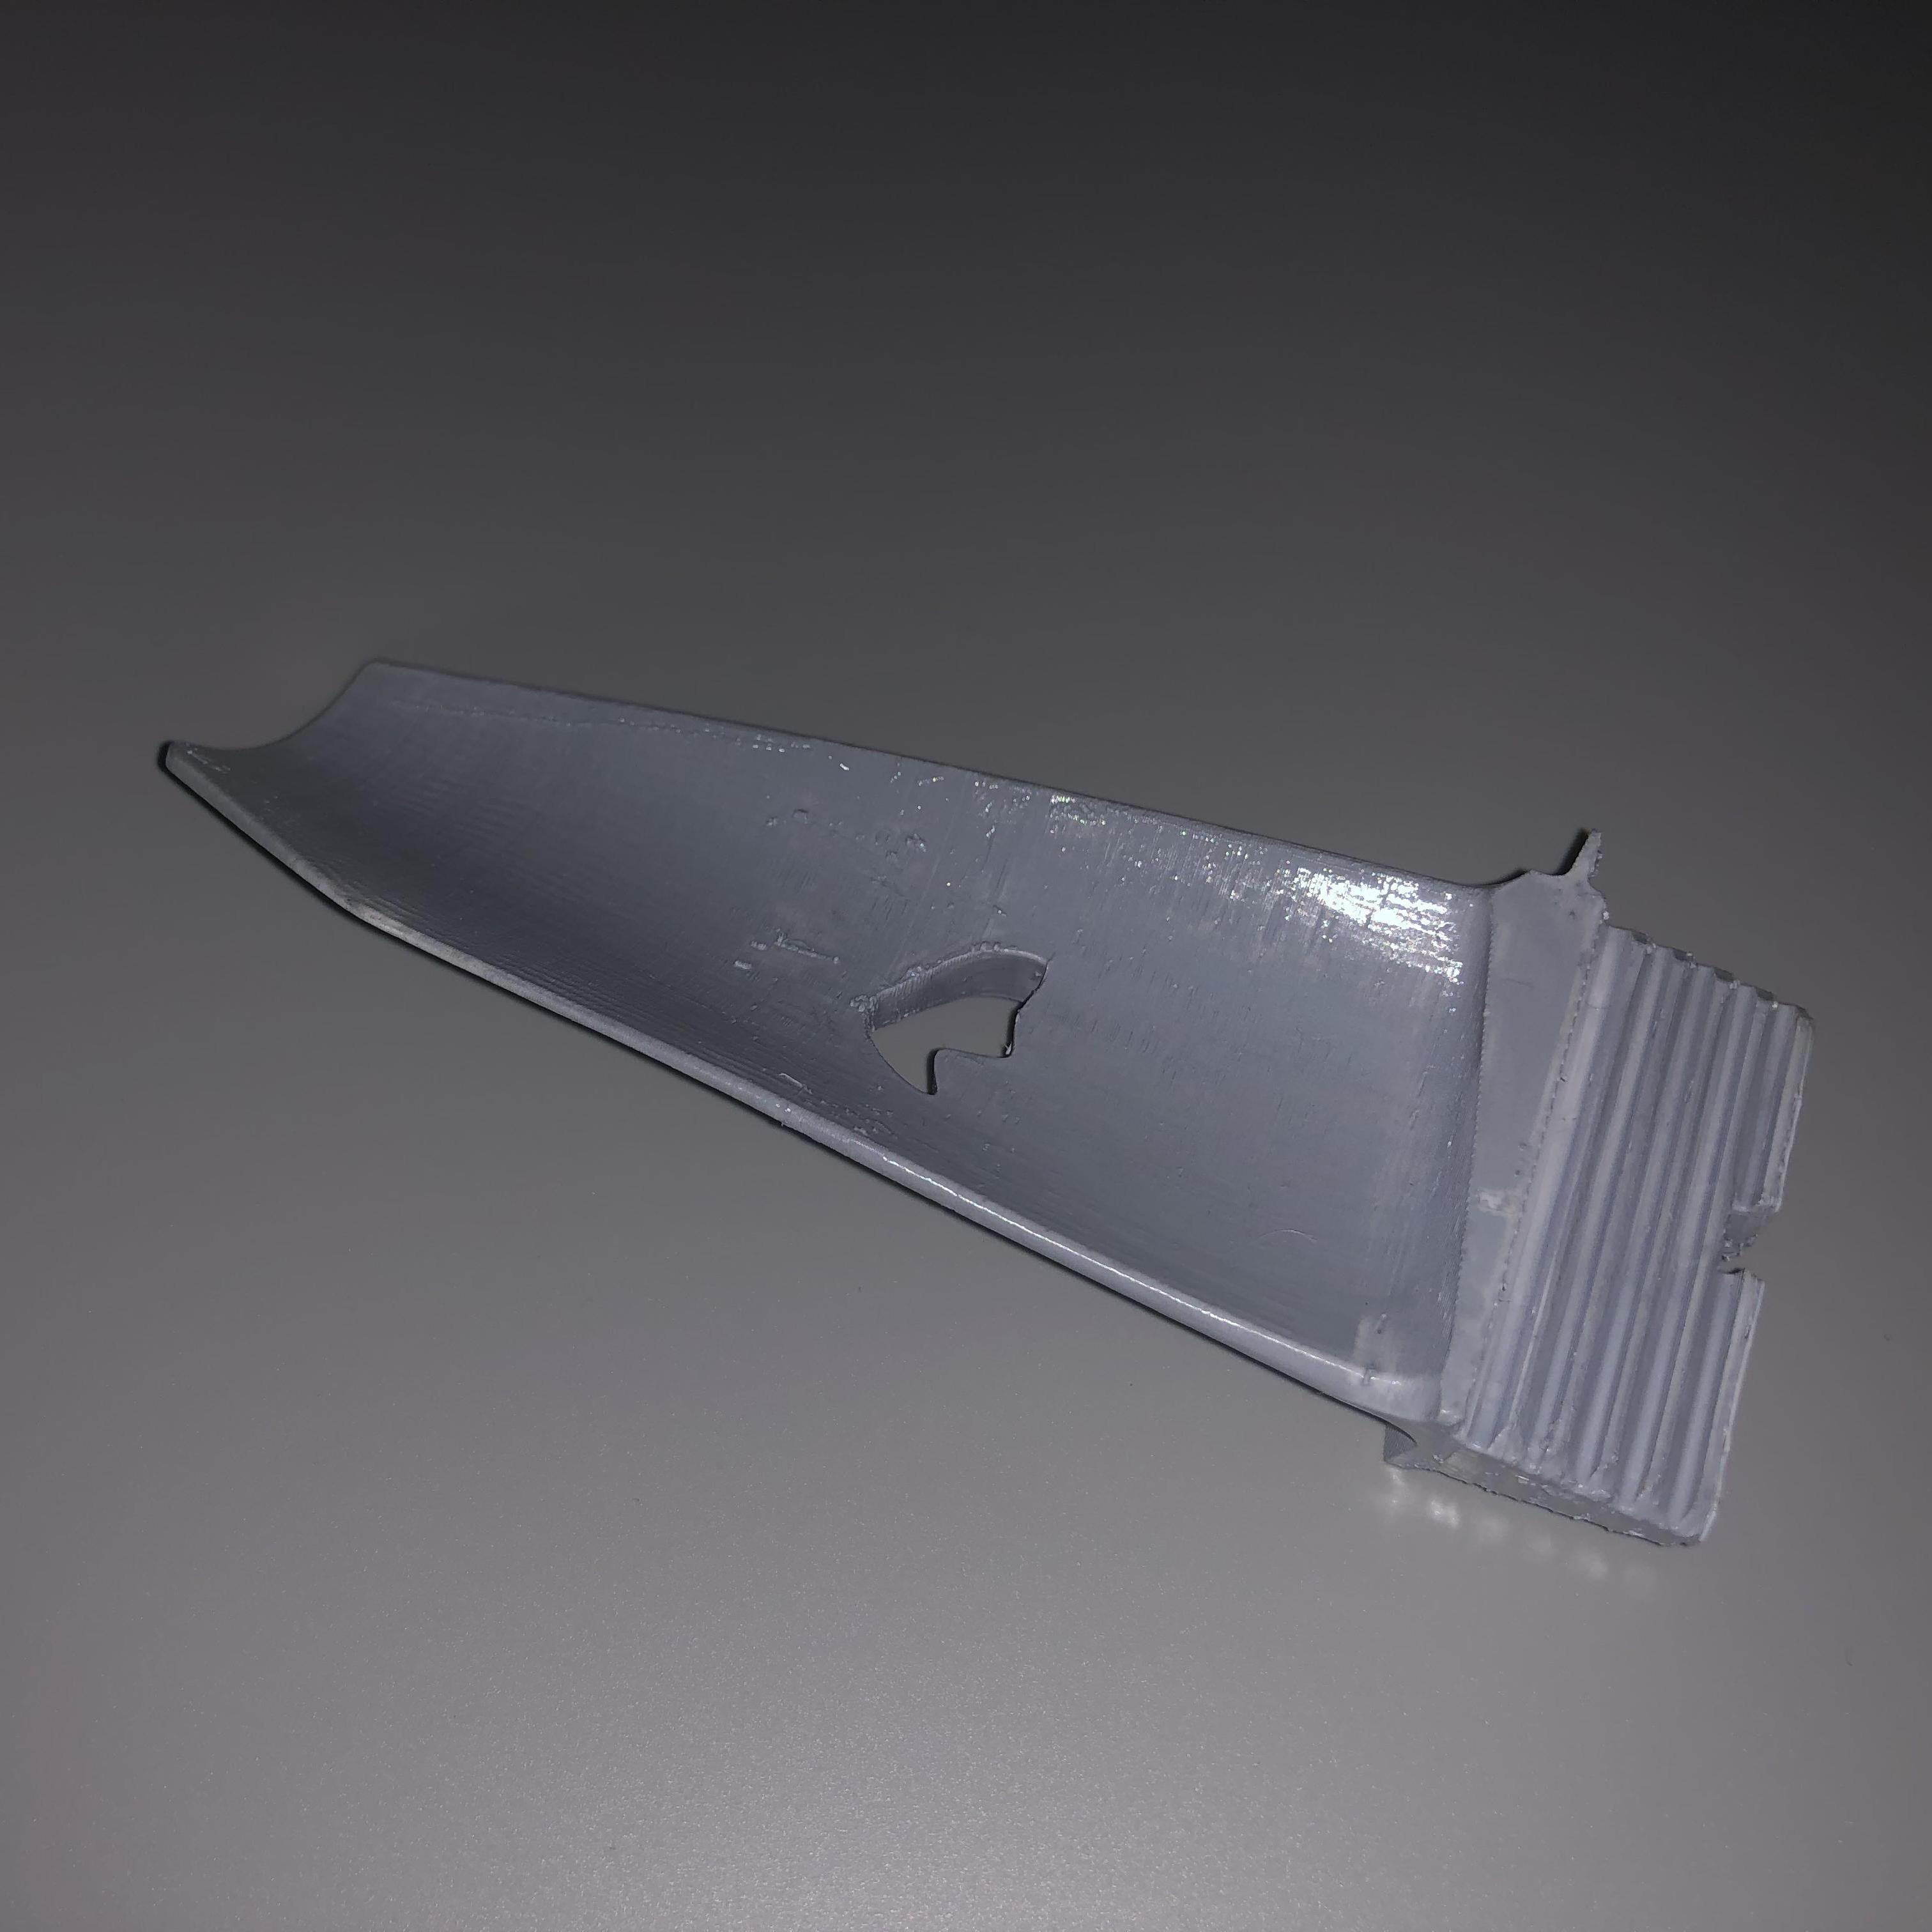breakdown: (851, 943, 1054, 1097)
